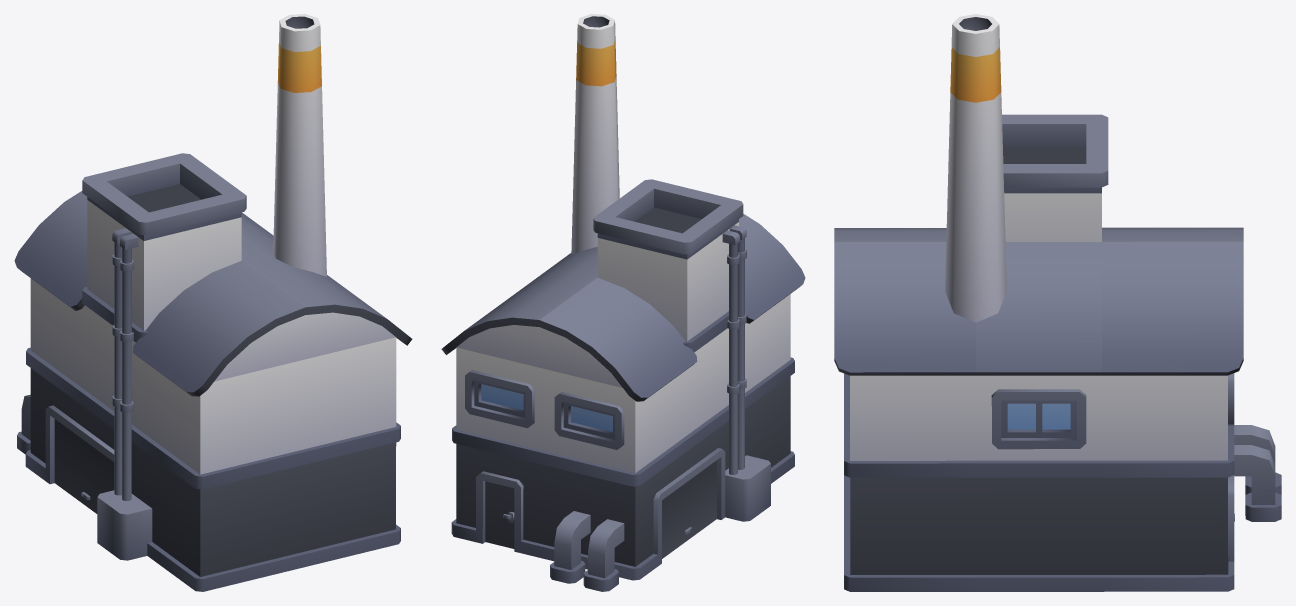
The model's file is building-n_lev1.glb.
3 views of the same model, side by side, from view 1: azimuth 30°, elevation 25°; view 2: azimuth 150°, elevation 25°; view 3: azimuth 270°, elevation 25° (orthographic). The views are drawn at different scales.
Parts seen in each view (by area): view 1: building-n_lev1; view 2: building-n_lev1; view 3: building-n_lev1.
Part boxes in pixels (bbox=[...]): building-n_lev1: bbox=[14, 14, 412, 591]; building-n_lev1: bbox=[441, 14, 805, 591]; building-n_lev1: bbox=[834, 14, 1281, 591].
Bounding box in the file's own units: 0.9766 × 1.9 × 1.42.
Materials: 1 (1 with a texture image).
